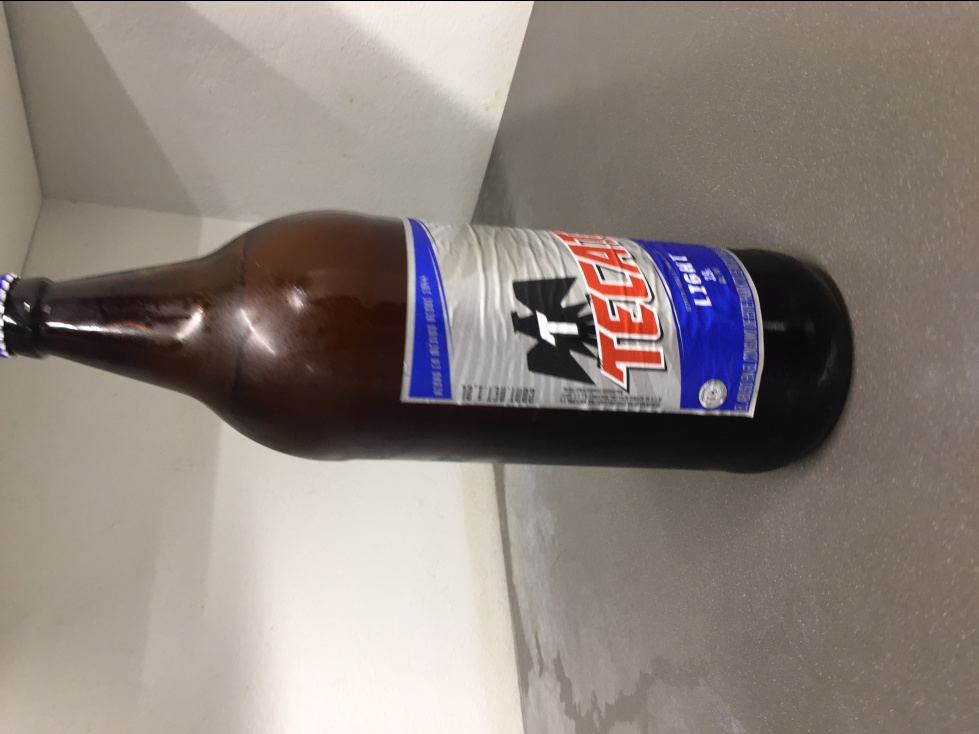tecateC: (1, 201, 855, 476)
